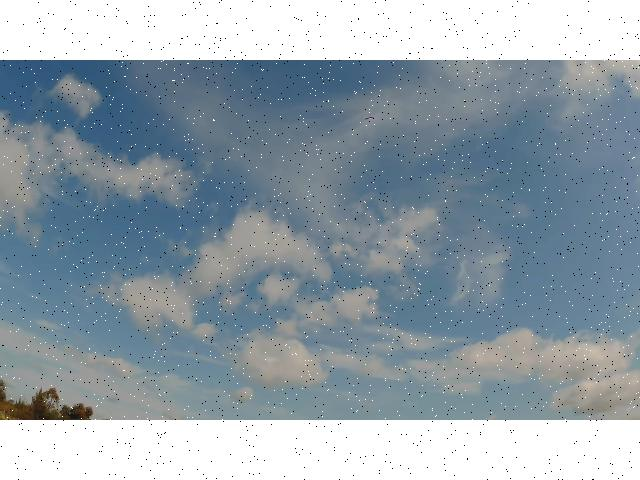Anti-Drone: (353, 109, 385, 129)
